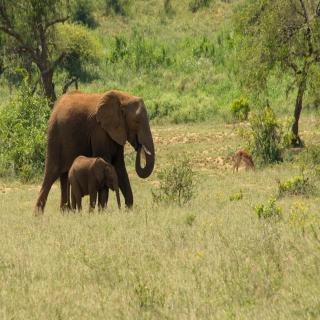Elephant: (26, 86, 157, 216), (64, 154, 124, 216)
